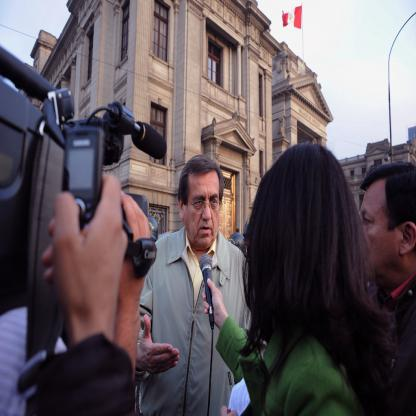Camera: (4, 83, 166, 245)
